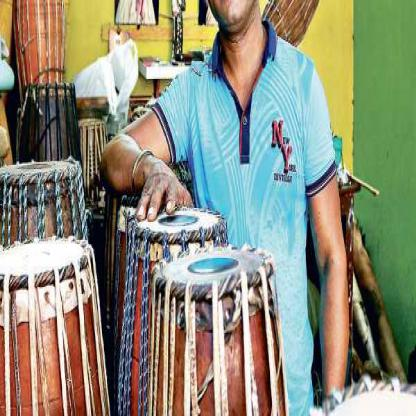Mridangam: (146, 242, 293, 416), (1, 238, 119, 413)
